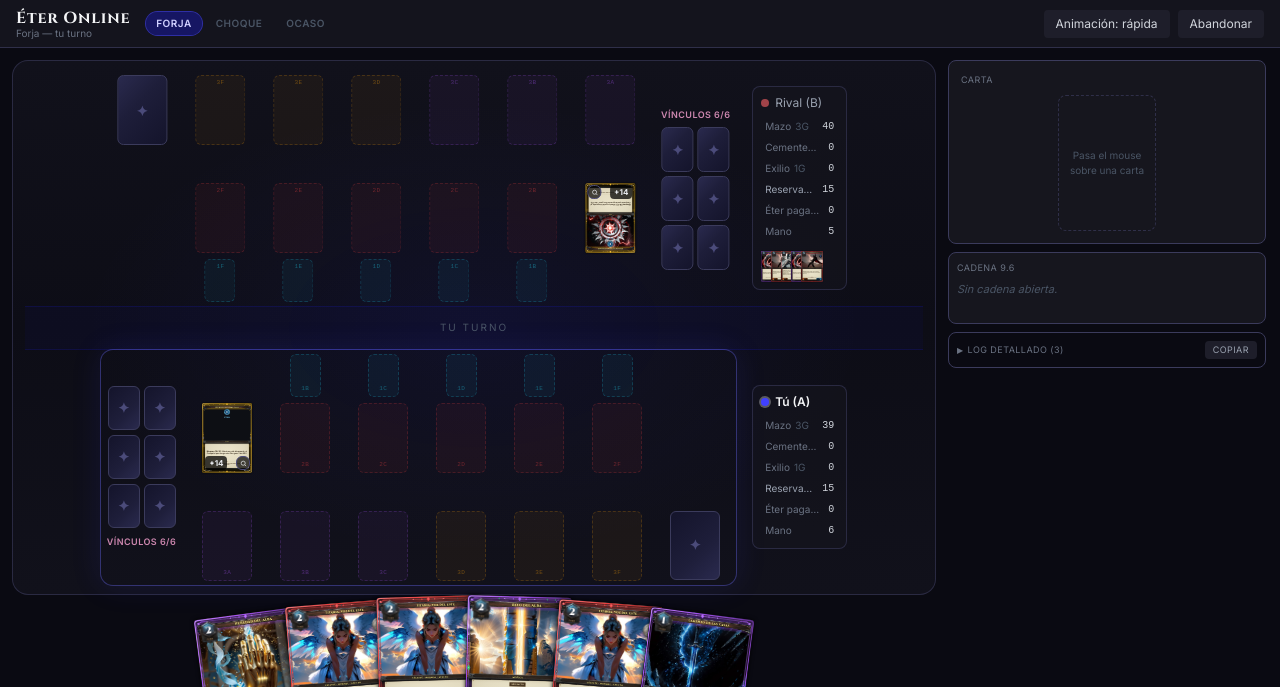
Test: Log detallado — botón copiar › copia todo el log al portapapeles con un click
Click the button "▶ Log Detallado (3)" at (1010,350), box [957,343,1064,357]
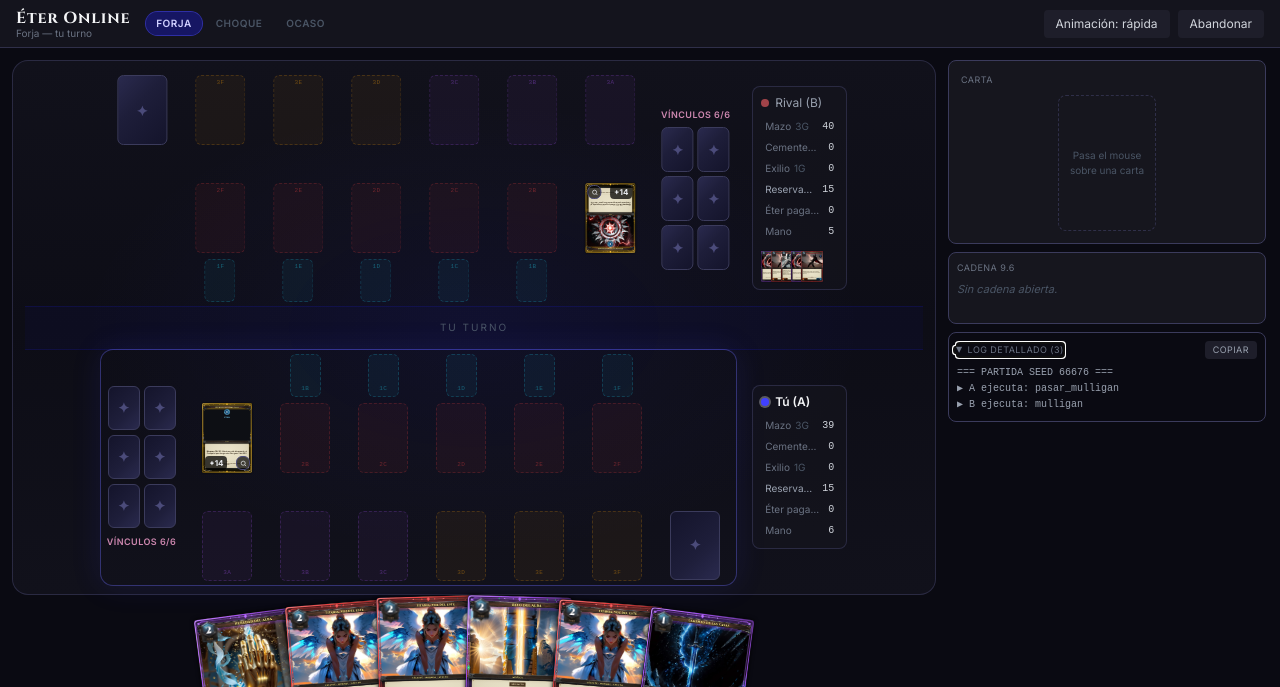
Click the button "Copiar" at (1231,350), box [1205,341,1257,359]
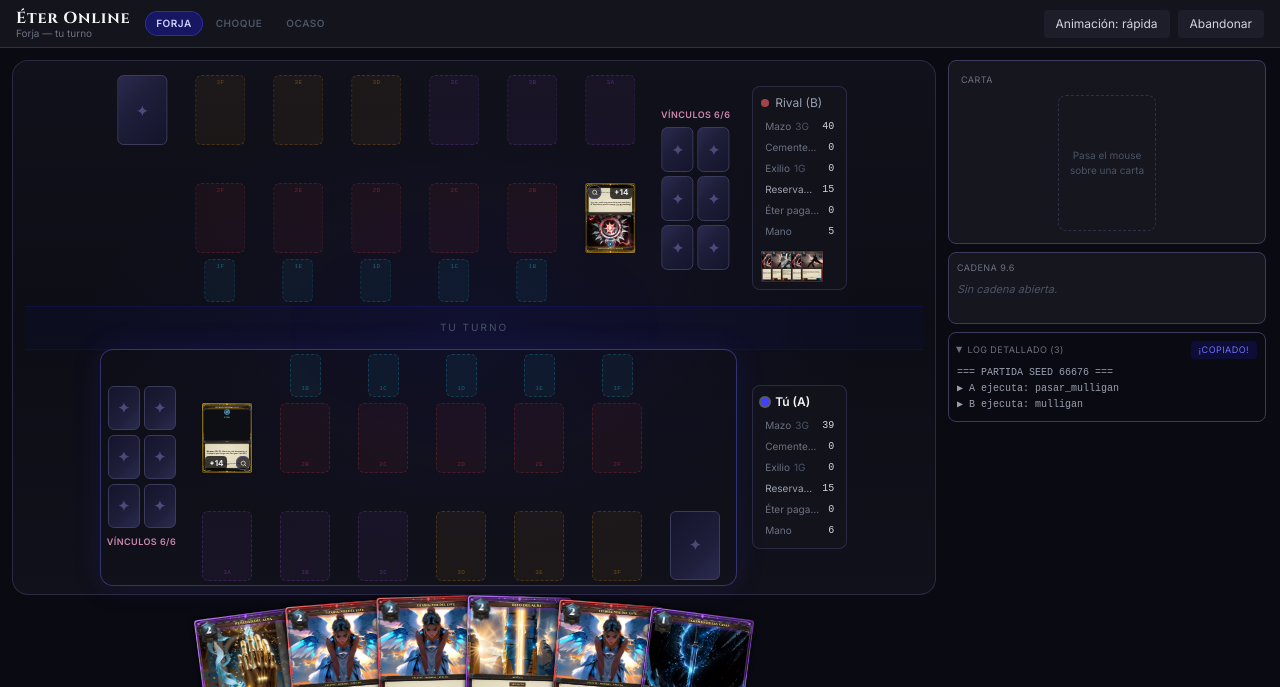
Result: the button "¡Copiado!" is shown at [1191,341,1257,359]
